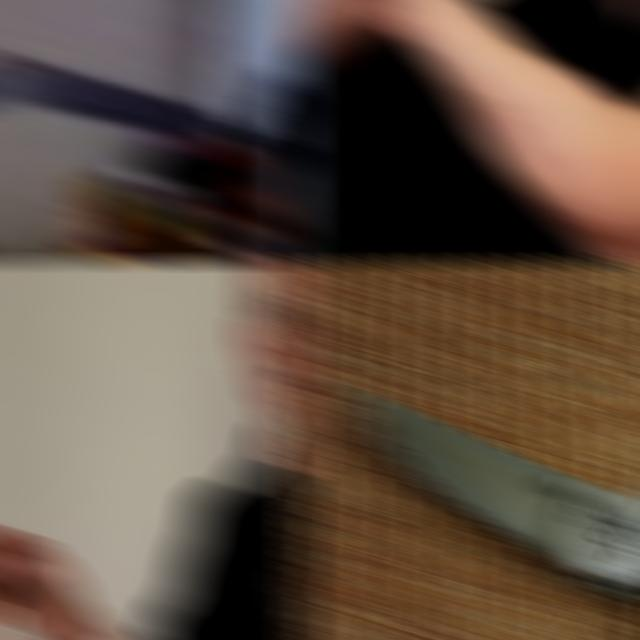Knife_Handle: (0, 0, 238, 187), (0, 279, 80, 640)
